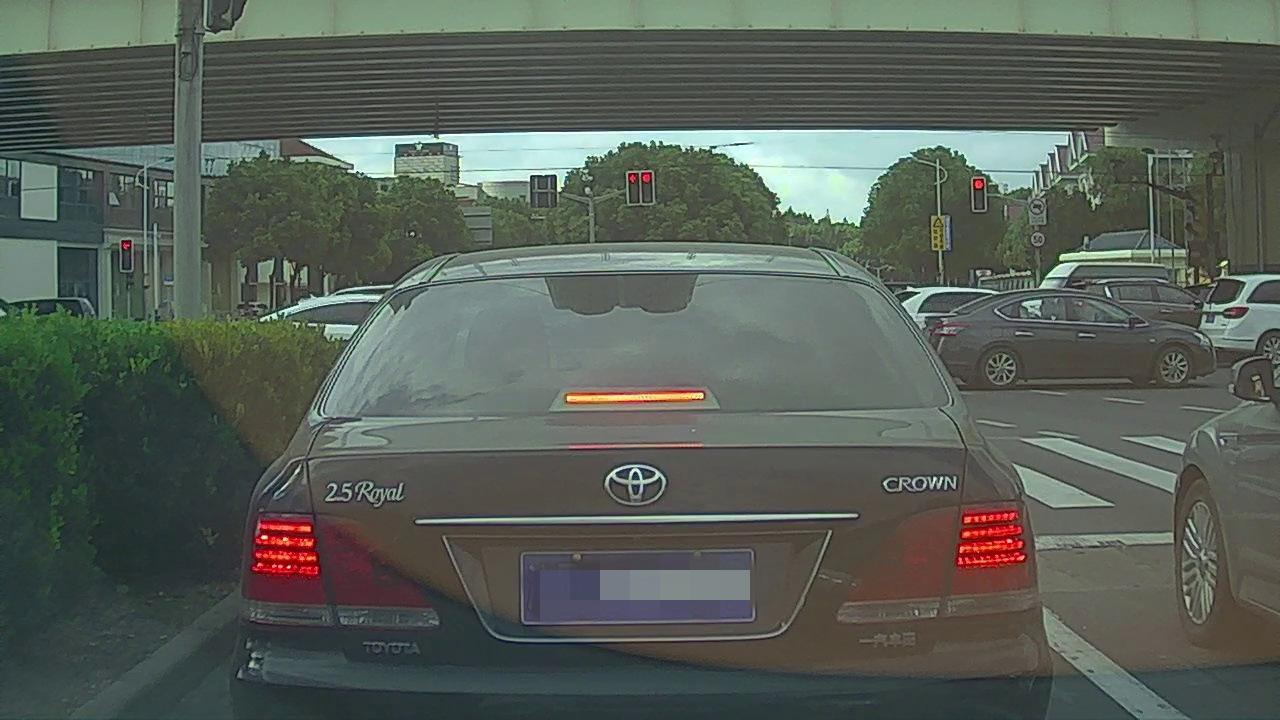traffic_light: (626, 171, 641, 205), (640, 171, 653, 204), (972, 178, 984, 211), (120, 239, 131, 270)
